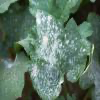Squash Powdery mildew leaf: (27, 7, 88, 98)
